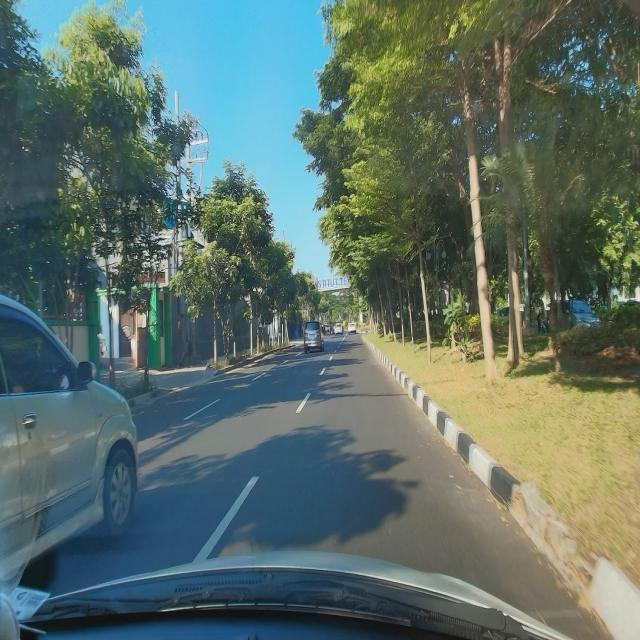car: (304, 320, 324, 355)
